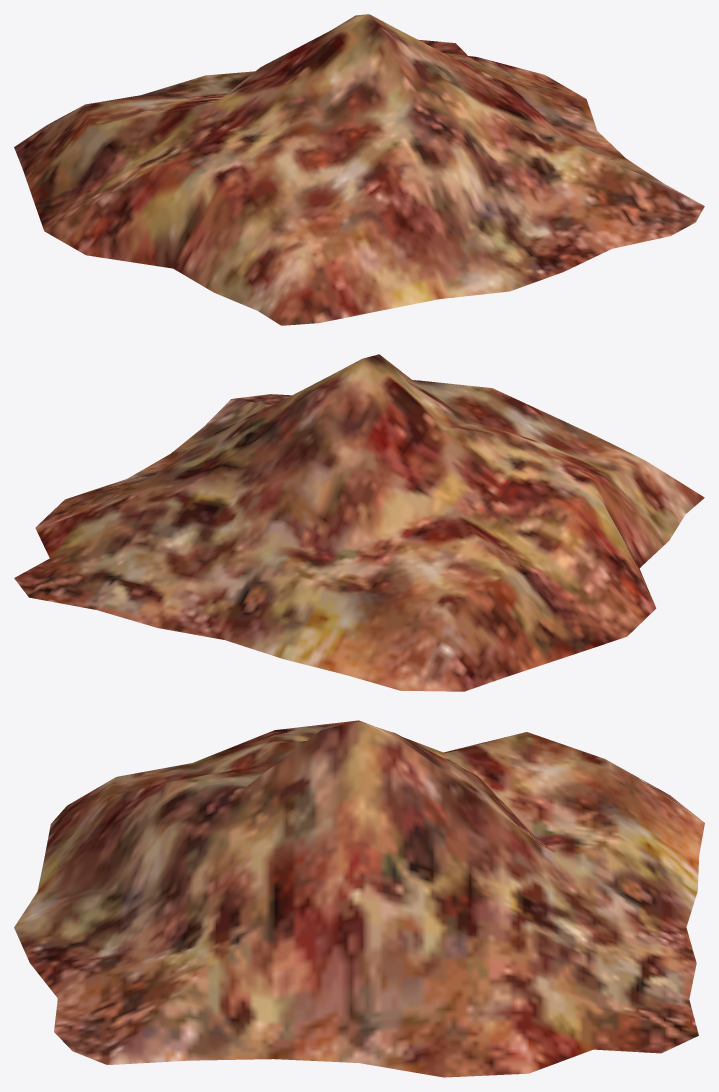
File: edb_food_meat_ground_l0.fbx
The picture shows the model from 3 angles, top to bottom: view 1: azimuth 30°, elevation 25°; view 2: azimuth 150°, elevation 25°; view 3: azimuth 270°, elevation 25°; orthographic projection. The views are drawn at different scales.
Visible parts, largest first — view 1: mesh_node; view 2: mesh_node; view 3: mesh_node.
Boxes of the visible parts, x1,y1,x2,y2 form: mesh_node: (14, 14, 704, 325); mesh_node: (14, 354, 704, 691); mesh_node: (14, 720, 704, 1077).
Size of the model in its own units: 0.2 by 0.0605 by 0.1828.
Materials: 1 (1 with a texture image).
